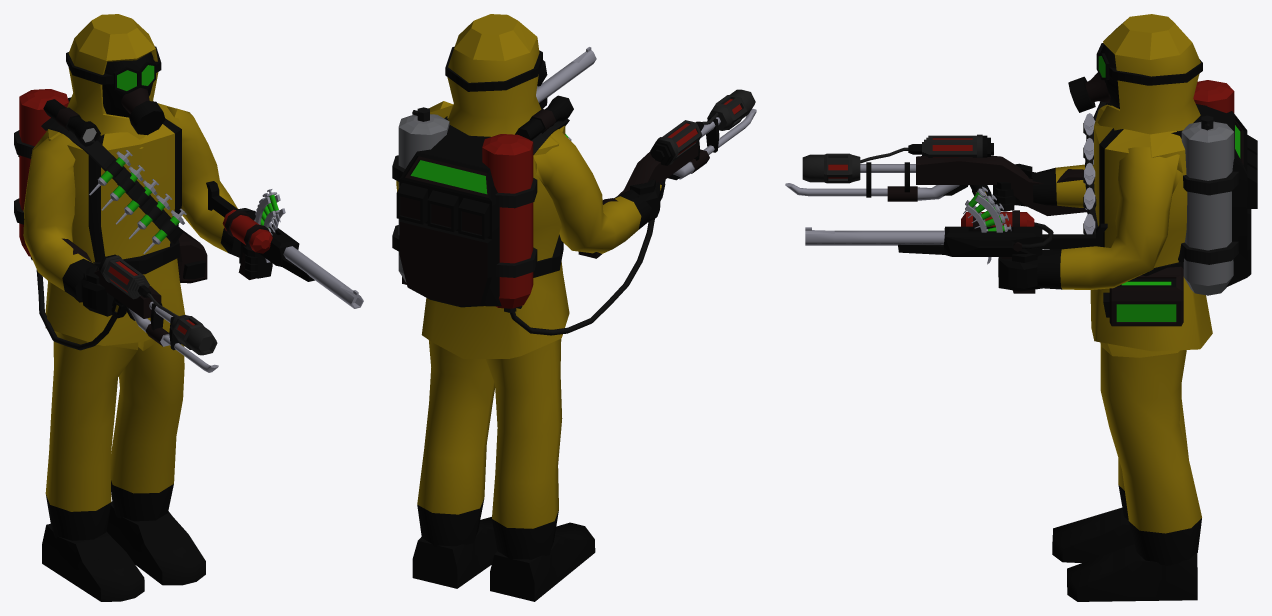
Rendered from IdleStand.FBX.
3 views of the same model, side by side, from view 1: azimuth 30°, elevation 25°; view 2: azimuth 150°, elevation 25°; view 3: azimuth 270°, elevation 25° (orthographic). The views are drawn at different scales.
Visible parts, largest first — view 1: Cylinder001, Object002, Object001, Cylinder014; view 2: Cylinder001, Object002, Object001, Cylinder014; view 3: Cylinder001, Object001, Object002.
Part boxes in pixels (bbox=[...]): Cylinder001: bbox=[14, 14, 363, 372]; Object002: bbox=[42, 331, 144, 601]; Object001: bbox=[106, 331, 205, 585]; Cylinder014: bbox=[43, 99, 100, 146]; Cylinder001: bbox=[392, 14, 756, 358]; Object002: bbox=[486, 339, 595, 601]; Object001: bbox=[412, 340, 497, 588]; Cylinder014: bbox=[515, 95, 573, 140]; Cylinder001: bbox=[785, 14, 1257, 351]; Object001: bbox=[1067, 342, 1201, 601]; Object002: bbox=[1052, 384, 1188, 562].
Bounding box in the file's own units: 73.65 × 190 × 148.
